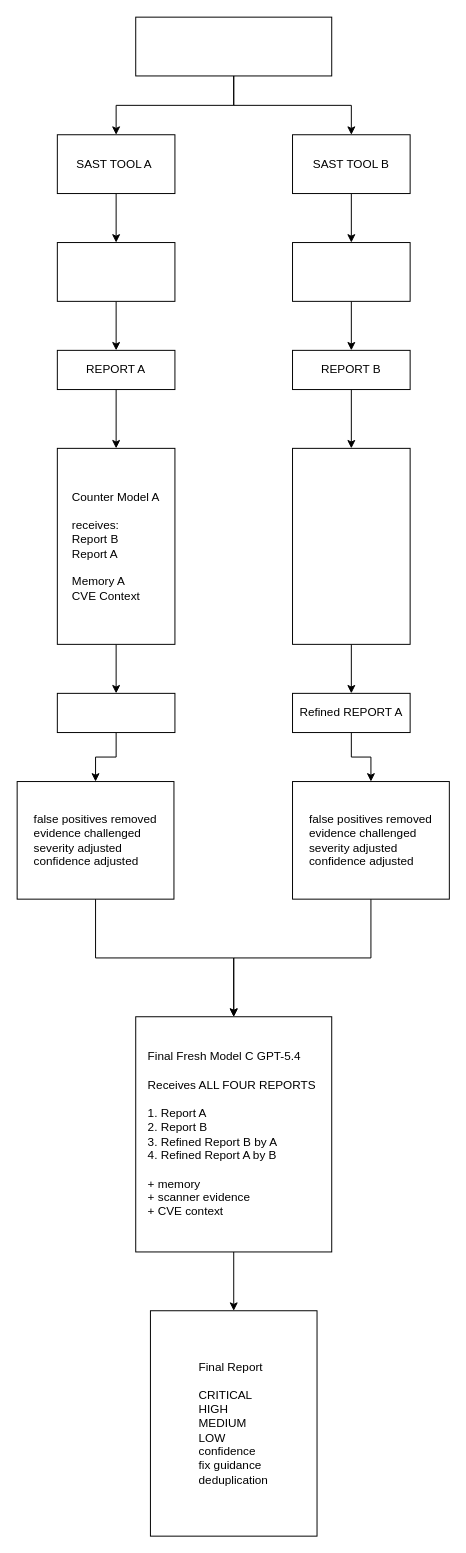
This 466x1553 diagram has some shape labels left out. The shapes that lost their labels are listed below. From the top down, each one's centre as x and y in pixels, then its label:
At [233,46]: "GitHub Actions PR / Push / Schedule".
At [115,271]: "Fresh Model A Initial Analysis".
At [351,271]: "Fresh Model B Initial Analysis".
At [351,545]: "Counter Model B receives: Report A Report B Memory B CVE Context".
At [115,712]: "Refined REPORT B".
